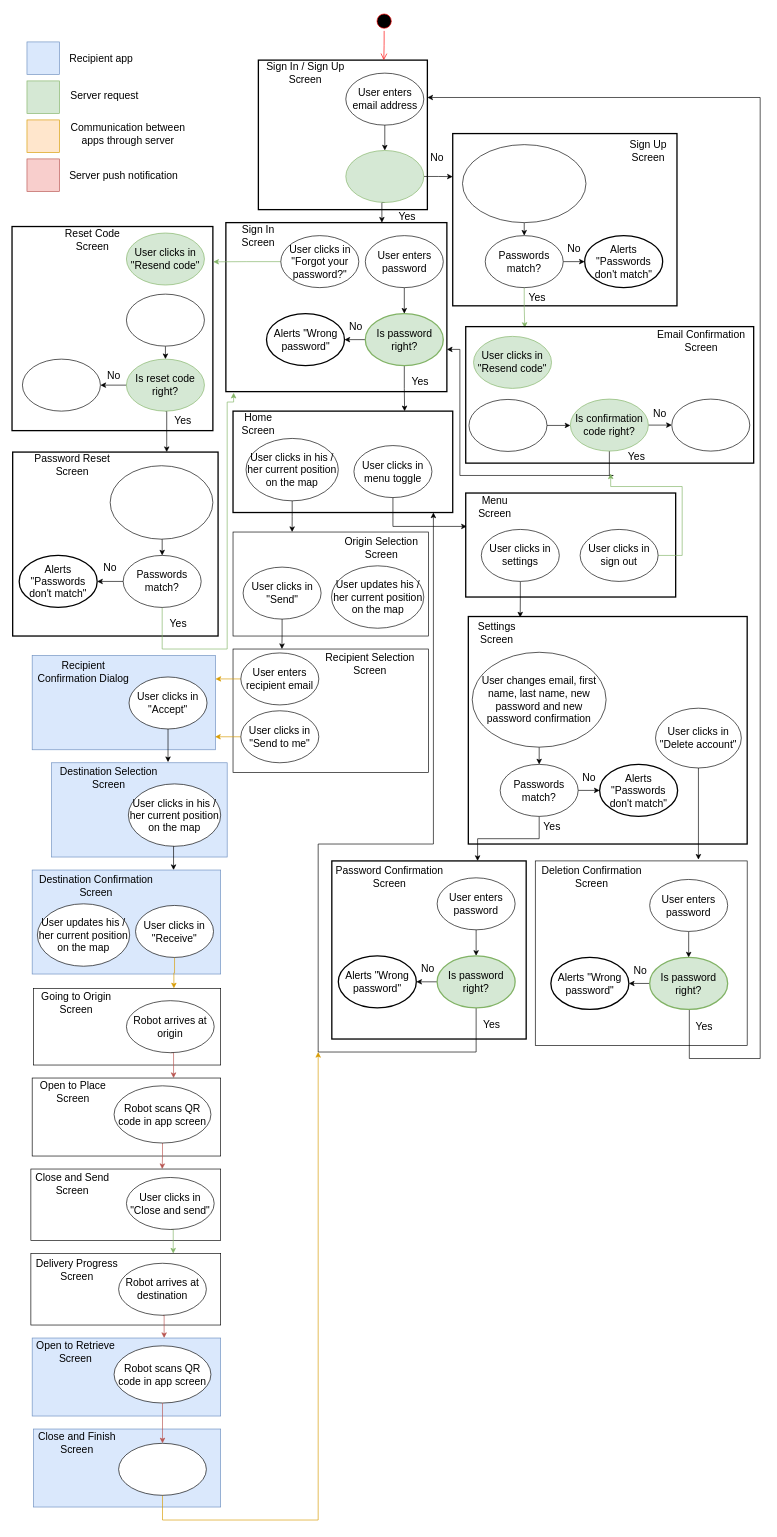
The diagram is 777 pixels wide and 1537 high, and some of its shapes have lost their labels. The centre of each missing label's shape, as x and y in pixels:
Account exists with email?: (384,176)
Alerts "Wrong confirmation code": (710,424)
Alerts "Wrong reset code": (61,384)
User clicks in "Close and finish": (162,1469)
User enters confirmation code: (507,425)
User enters first name, last name, password and password confirmation: (524,183)
User enters new password and new password confirmation: (161,502)
User enters reset code: (165,319)
